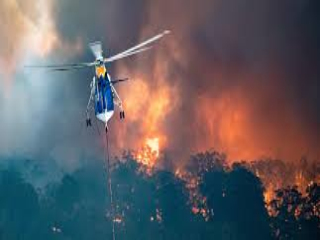fire: (125, 82, 182, 179), (257, 165, 320, 227)
smoke: (2, 63, 89, 203), (188, 66, 263, 170)
